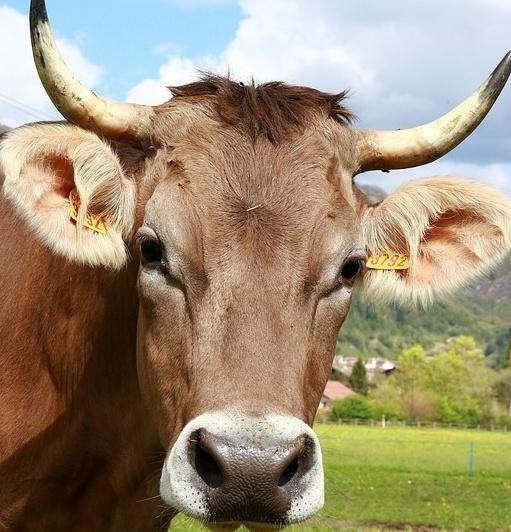muzzles: (157, 410, 329, 532)
